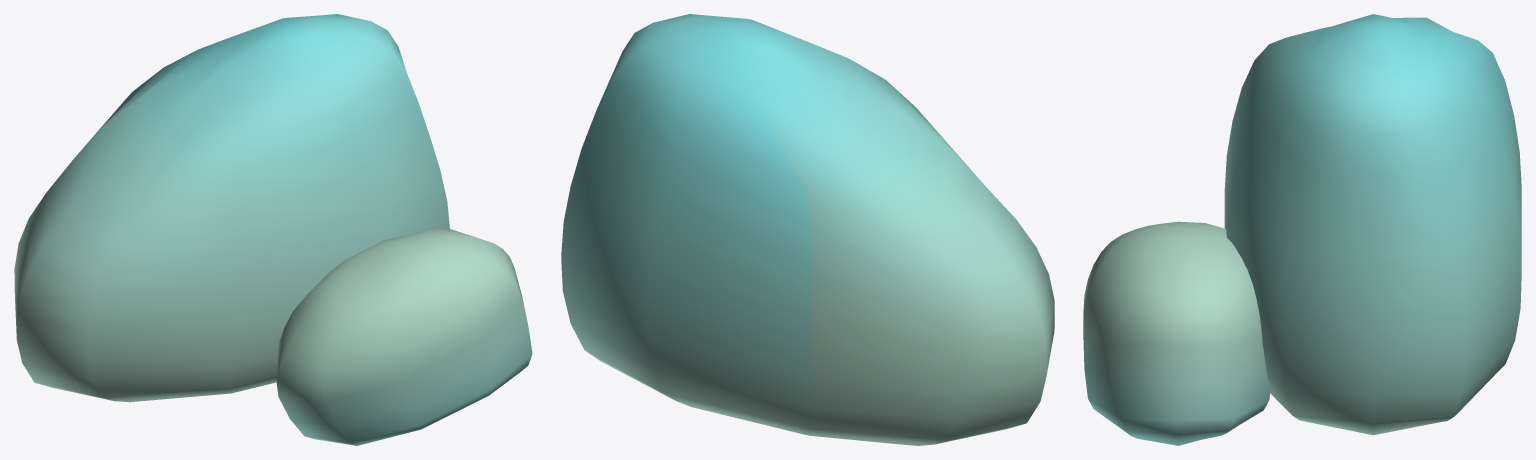
The model's file is Bush2.fbx.
The picture shows the model from 3 angles, left to right: view 1: azimuth 30°, elevation 25°; view 2: azimuth 150°, elevation 25°; view 3: azimuth 270°, elevation 25°; orthographic projection. The views are drawn at different scales.
Visible parts, largest first — view 1: Bush2; view 2: Bush2; view 3: Bush2.
Boxes of the visible parts, x1,y1,x2,y2 form: Bush2: (14,14,532,445); Bush2: (561,14,1054,445); Bush2: (1083,14,1521,445).
Size of the model in its own units: 154 by 115 by 119.
Materials: 1 (1 with a texture image).
